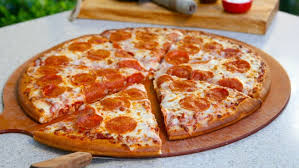pizza: (27, 31, 267, 146)
